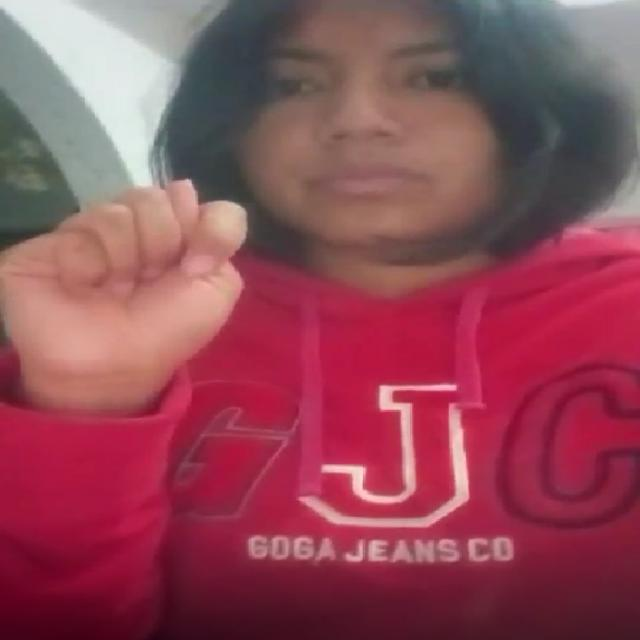T: (3, 160, 272, 413)
